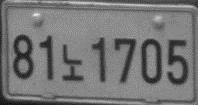0: (139, 37, 162, 84)
1: (91, 35, 107, 83), (39, 34, 54, 81)
5: (167, 38, 188, 84)
7: (113, 37, 136, 83)
8: (12, 34, 35, 79)
노: (61, 43, 84, 82)
